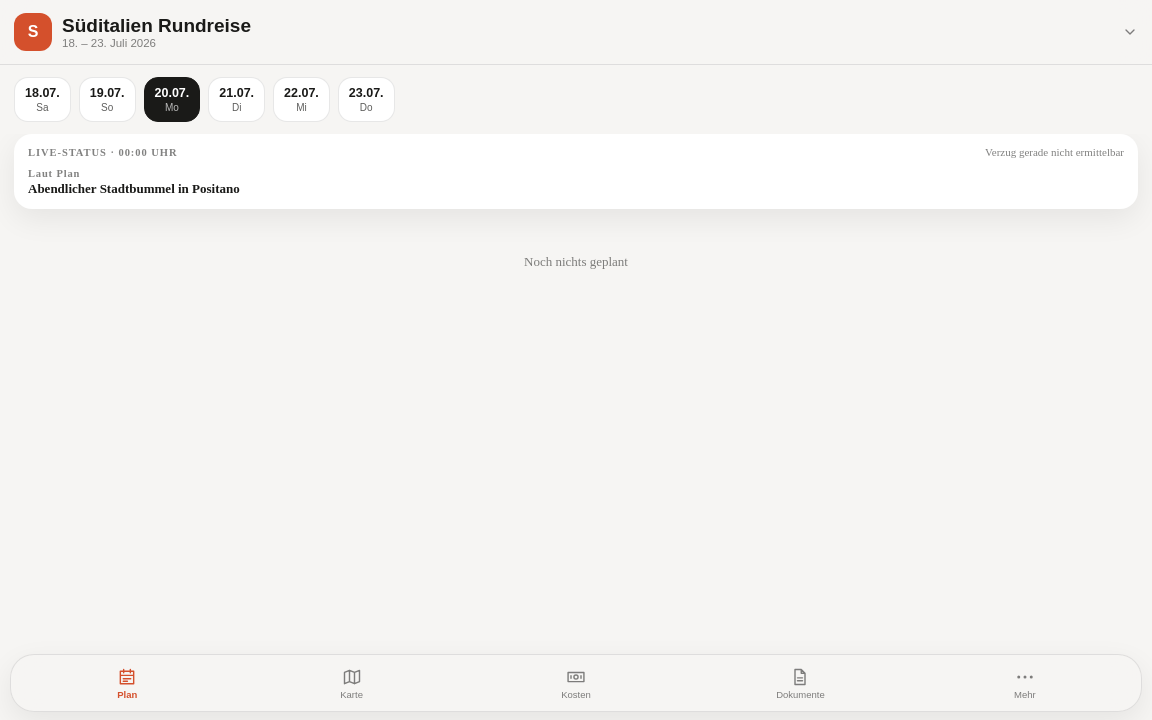
Scenario: GoView › zeigt beim Antippen von "Karte" die Kartenansicht statt des Zeitstrahls
This screenshot has width=1152, height=720.
Click the tab "18.07. Sa" at (42, 100), box x1=14 y1=77 x2=71 y2=122
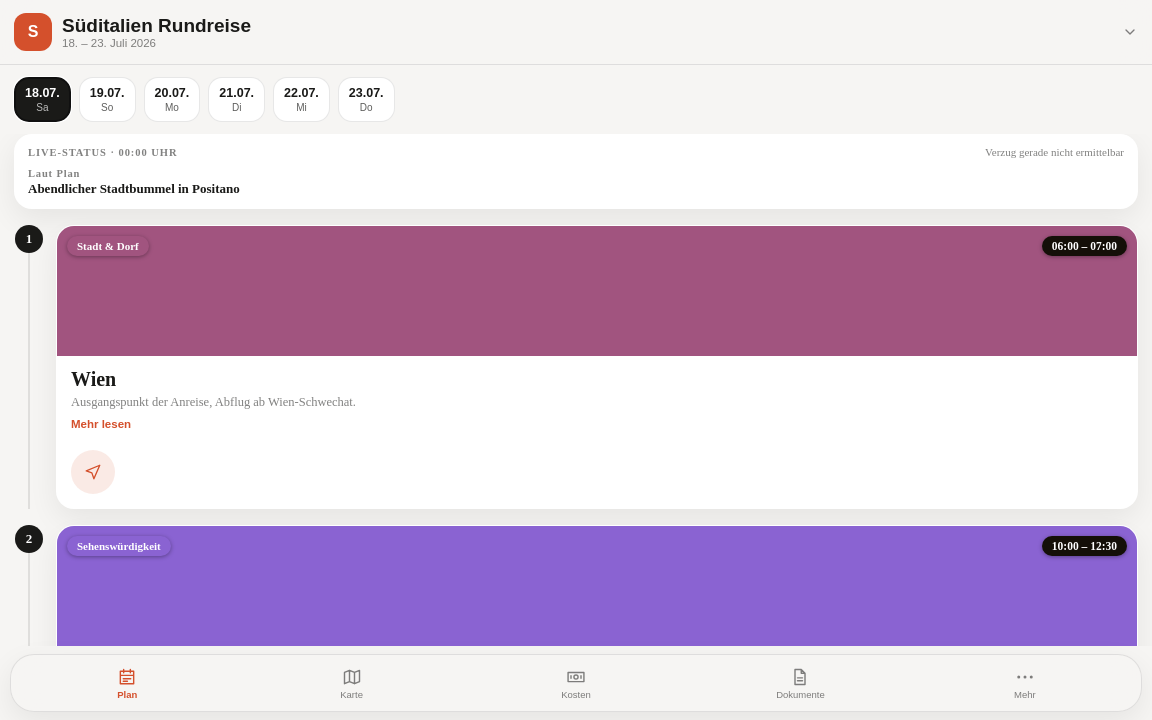
Click the button "Karte" at (352, 683), box x1=241 y1=661 x2=462 y2=705
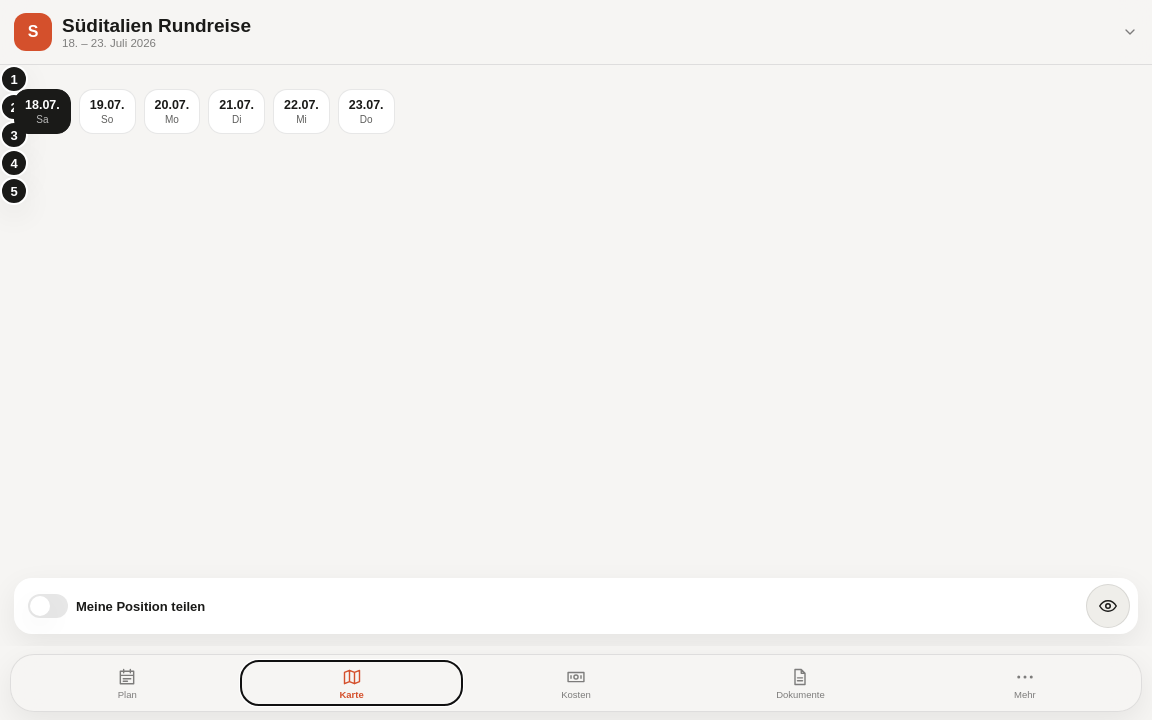
expect the element with test id "map" is shown: met, box x1=0 y1=65 x2=28 y2=205
